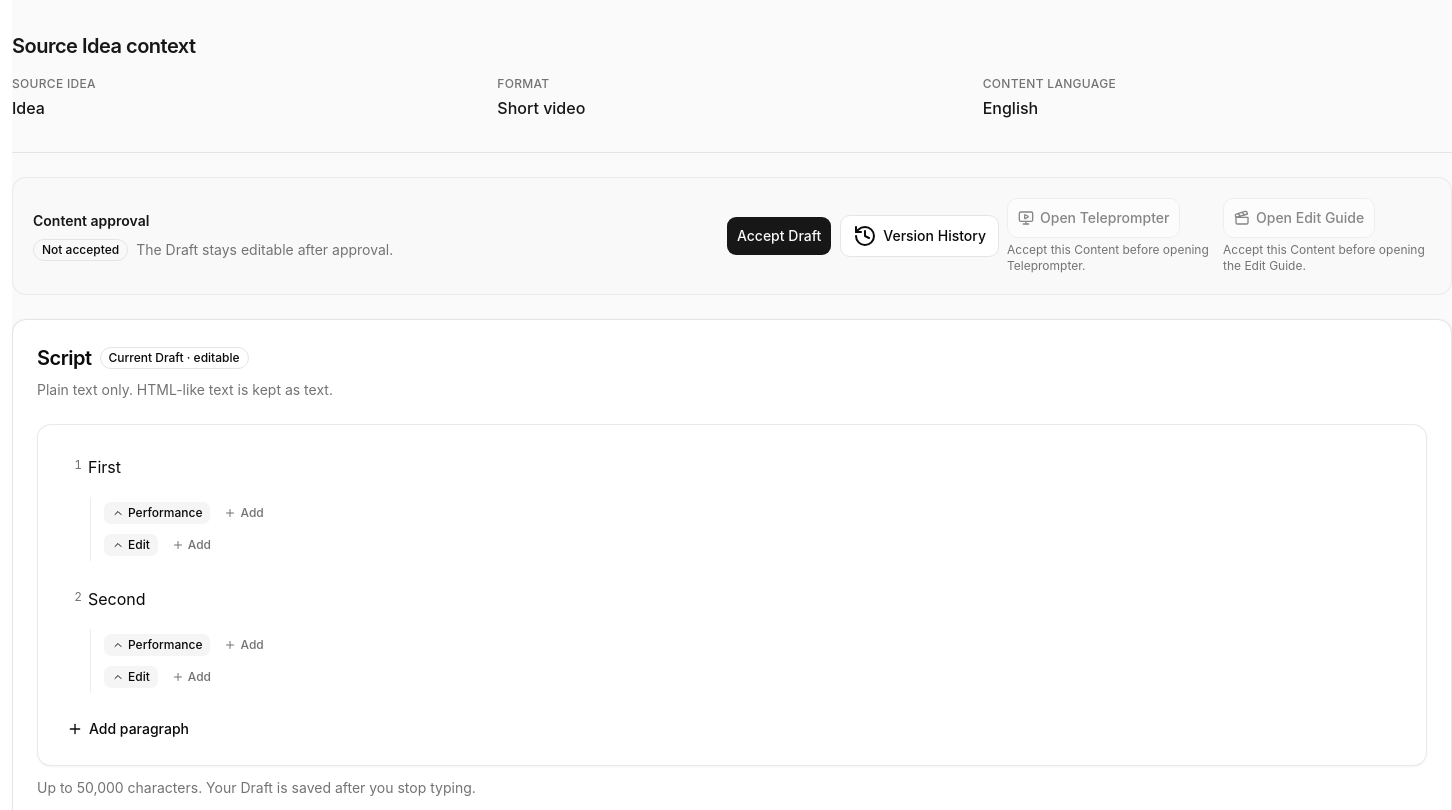
Test case: ContentEditor › gates acceptance while the visible Draft is dirty
The image size is (1452, 810).
Expected: the button "Accept Draft" is enabled, [726,216,832,256]
Replace the text in the text box named "Script block 1 Script text" with "Changed" at (704, 469), box [88,445,1320,493]
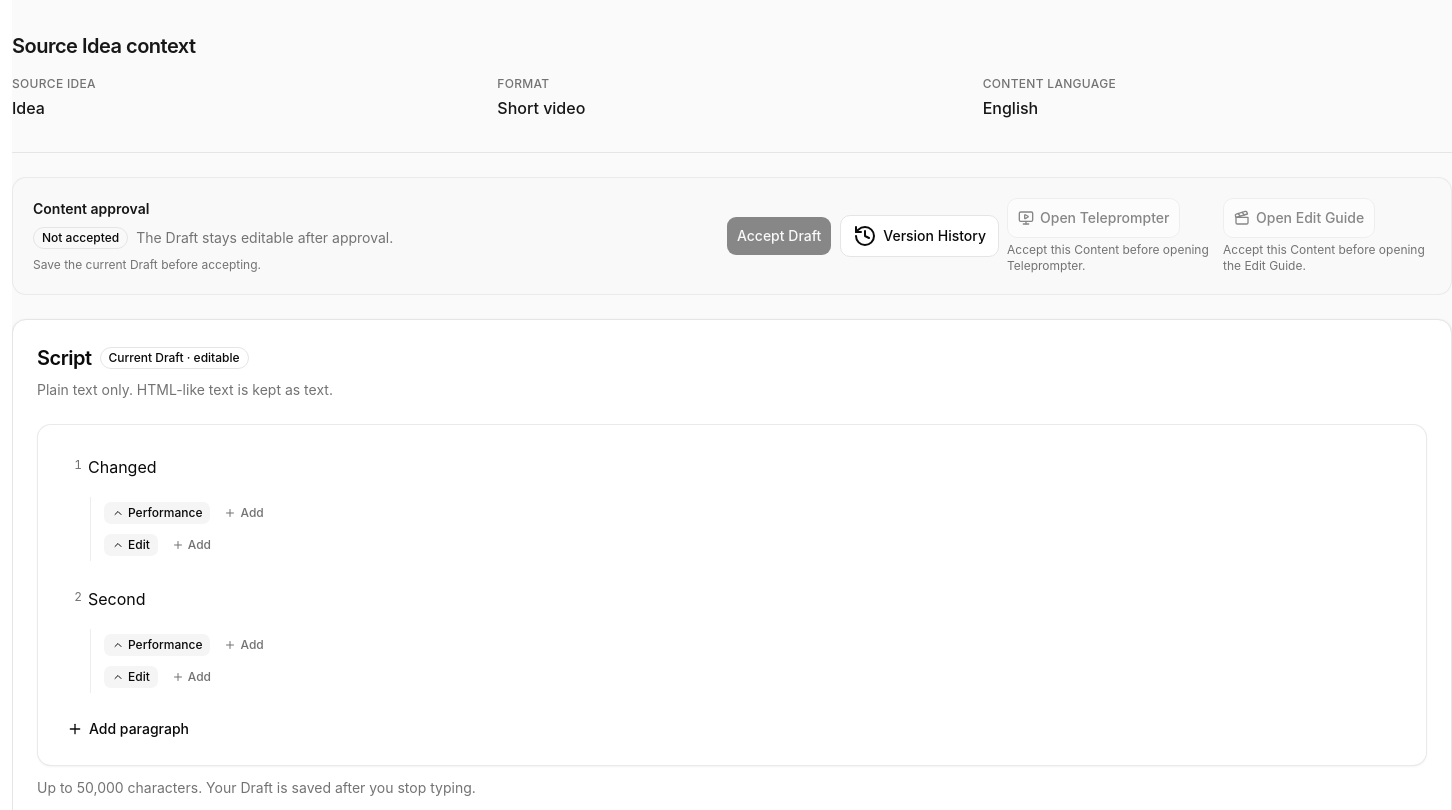
Expected: the button "Accept Draft" is disabled, [726,216,832,256]
Expected: the text "Save the current Draft before accepting." is shown, [33,257,261,272]
